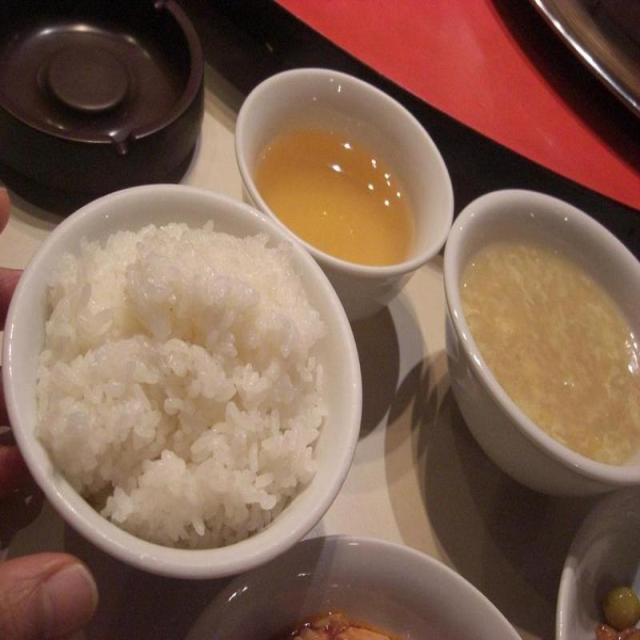Rice: (0, 164, 366, 578)
